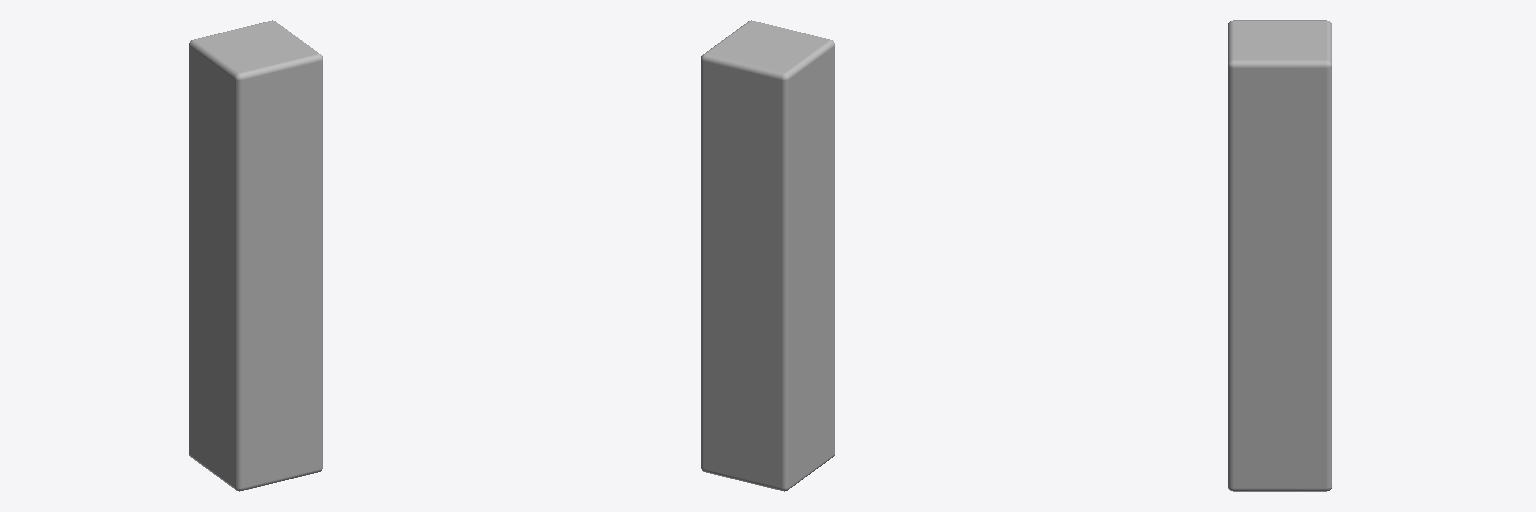
URDF robot description (root):
<robot name="root">
  <link name="link_rectangular_solid_convex_piece_0">
    <inertial>
      <origin xyz="0 0 0" rpy="0 0 0"/>
      <mass value="3.83E-01"/>
      <inertia ixx="1.59E-03" ixy="-8.78E-14" ixz="7.47E-19" iyy="1.59E-03" iyz="1.19E-13" izz="1.46E-04"/>
    </inertial>
    <visual>
      <origin xyz="0 0 0" rpy="0 0 0"/>
      <geometry>
        <mesh filename="rectangular_solid_convex_piece_0.obj" scale="1.0000E+00 1.0000E+00 1.0000E+00"/>
      </geometry>
      <material name="">
        <color rgba="7.50E-01 7.50E-01 7.50E-01 1"/>
      </material>
    </visual>
    <collision>
      <origin xyz="0 0 0" rpy="0 0 0"/>
      <geometry>
        <mesh filename="rectangular_solid_convex_piece_0.obj" scale="1.0000E+00 1.0000E+00 1.0000E+00"/>
      </geometry>
    </collision>
  </link>
</robot>

--- What the picture shows (computed from the rendered views, not written in the file) ---
The picture shows the robot from 3 angles, left to right: view 1: azimuth 30°, elevation 25°; view 2: azimuth 150°, elevation 25°; view 3: azimuth 270°, elevation 25°; orthographic projection.
Model root with 1 links and 0 joints (none), rooted at link_rectangular_solid_convex_piece_0, posed every joint at zero.
Links seen in each view (by area): view 1: link_rectangular_solid_convex_piece_0; view 2: link_rectangular_solid_convex_piece_0; view 3: link_rectangular_solid_convex_piece_0.
Link boxes in pixels (bbox=[...]): link_rectangular_solid_convex_piece_0: bbox=[189, 20, 322, 491]; link_rectangular_solid_convex_piece_0: bbox=[701, 20, 834, 491]; link_rectangular_solid_convex_piece_0: bbox=[1228, 20, 1331, 491].
Bounding box of the posed robot: 0.0479 × 0.0479 × 0.2178 m (x, y, z).
Meshes: 1 distinct files referenced, 1 mesh visuals loaded (1 OBJ).
